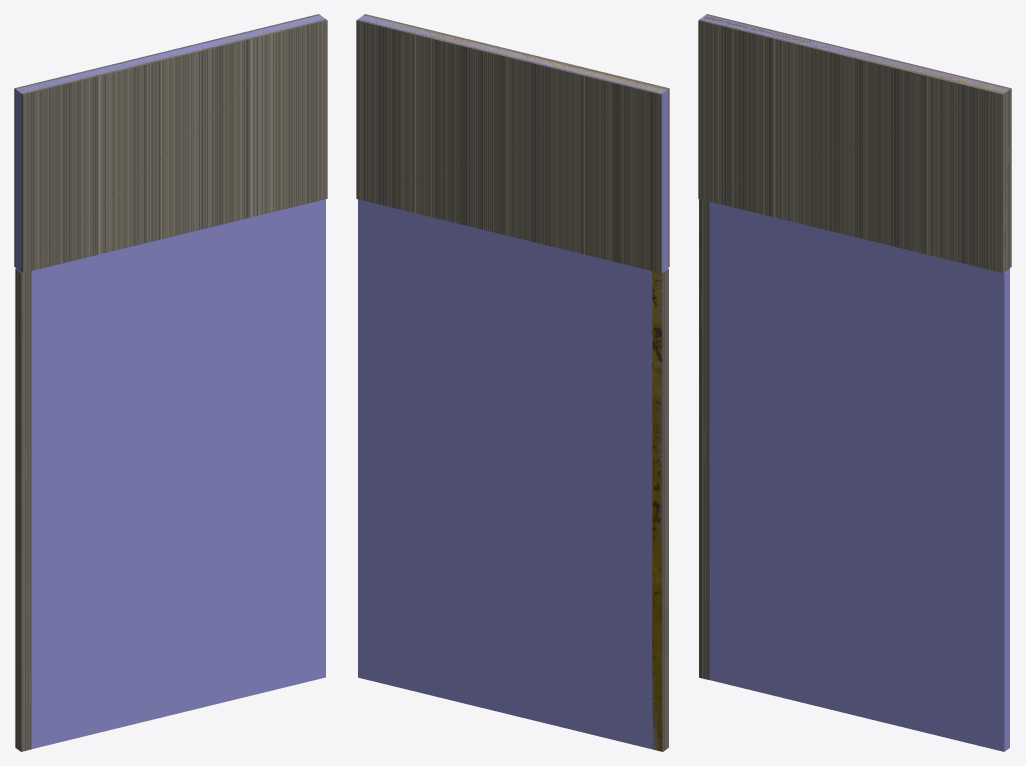
The model's file is walkway_02_railing_short.DAE.
3 views of the same model, side by side, from view 1: azimuth 30°, elevation 25°; view 2: azimuth 150°, elevation 25°; view 3: azimuth 330°, elevation 25° (orthographic).
Parts seen in each view (by area): view 1: bounds, colbox-01, colbox-02; view 2: bounds, colbox-01, walkway_02_rail_short, colbox-02; view 3: bounds, colbox-01, colbox-02, walkway_02_rail_short.
Part boxes in pixels (left/top/right/bottom): bounds: left=15, top=15, right=325, bottom=748; colbox-01: left=14, top=14, right=327, bottom=272; colbox-02: left=15, top=269, right=31, bottom=751; bounds: left=358, top=15, right=668, bottom=751; colbox-01: left=356, top=14, right=669, bottom=272; walkway_02_rail_short: left=362, top=16, right=663, bottom=751; colbox-02: left=662, top=269, right=668, bottom=751; bounds: left=700, top=15, right=1009, bottom=751; colbox-01: left=698, top=14, right=1011, bottom=272; colbox-02: left=699, top=199, right=709, bottom=679; walkway_02_rail_short: left=704, top=16, right=1006, bottom=92.
Size of the model in its own units: 306 by 15 by 630.
3 materials, 2 textured.
